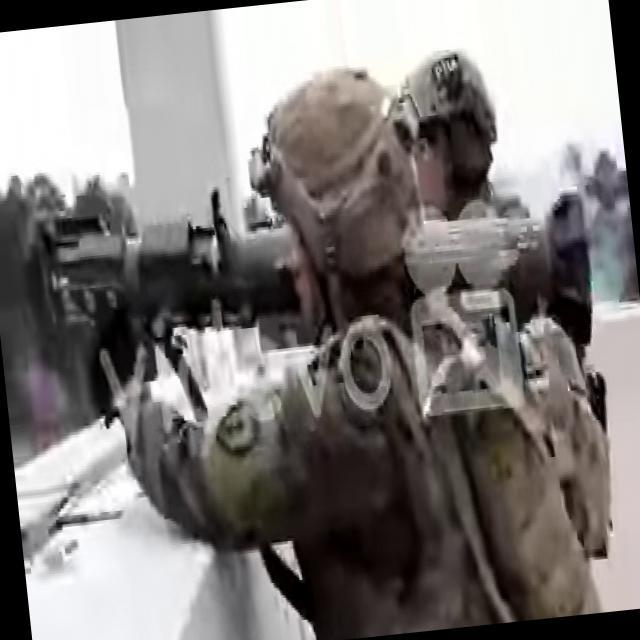rocket: (21, 205, 289, 333)
